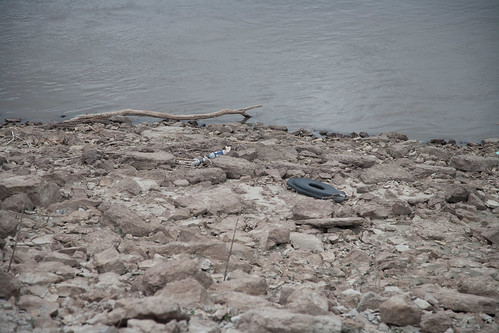river: (1, 1, 495, 133)
rocks: (18, 122, 499, 333)
